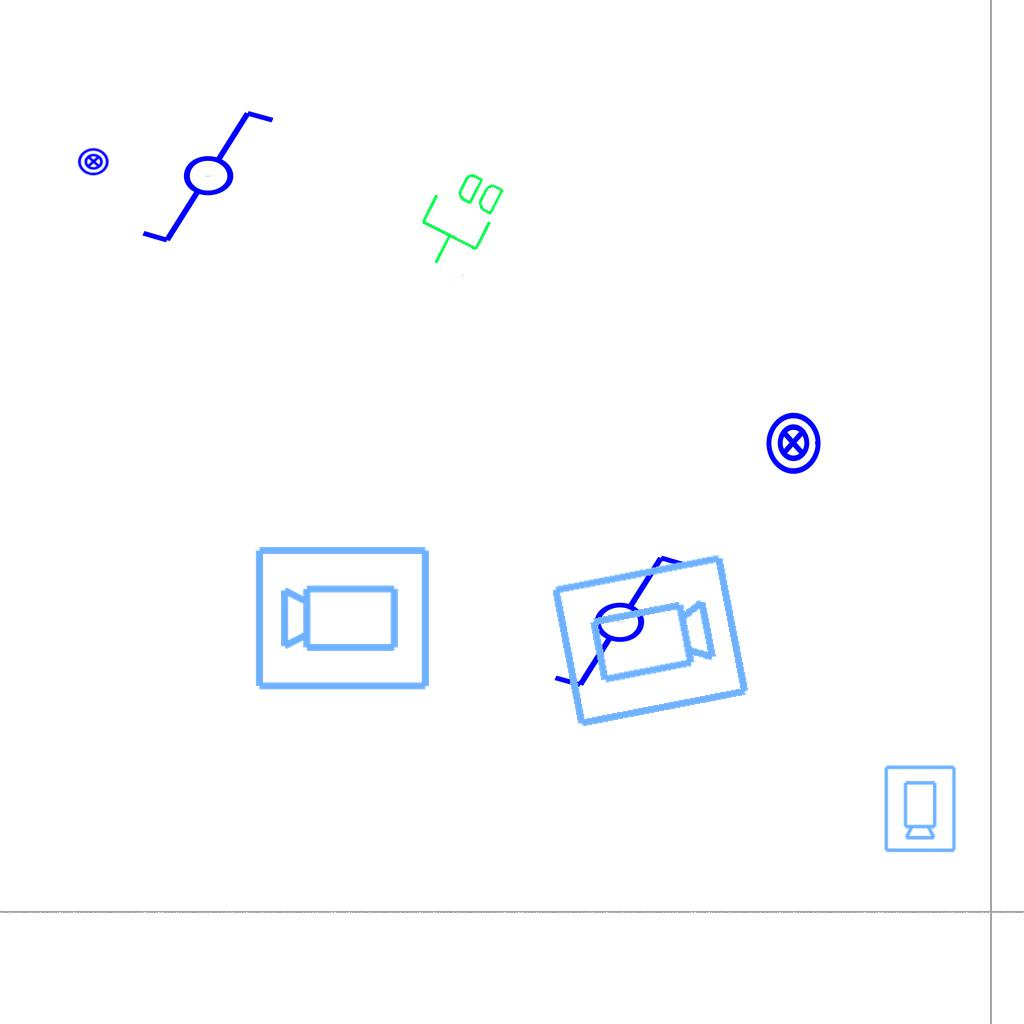Datenanschluss_zweifach: (404, 157, 513, 282)
KFO_Kamera_mit_Festobjektiv: (545, 549, 755, 735), (252, 540, 434, 694), (881, 763, 958, 854)
Taster_beleuchtet: (760, 410, 826, 476), (77, 145, 110, 178)
Wechselschalter: (533, 548, 690, 692), (138, 106, 295, 250)
